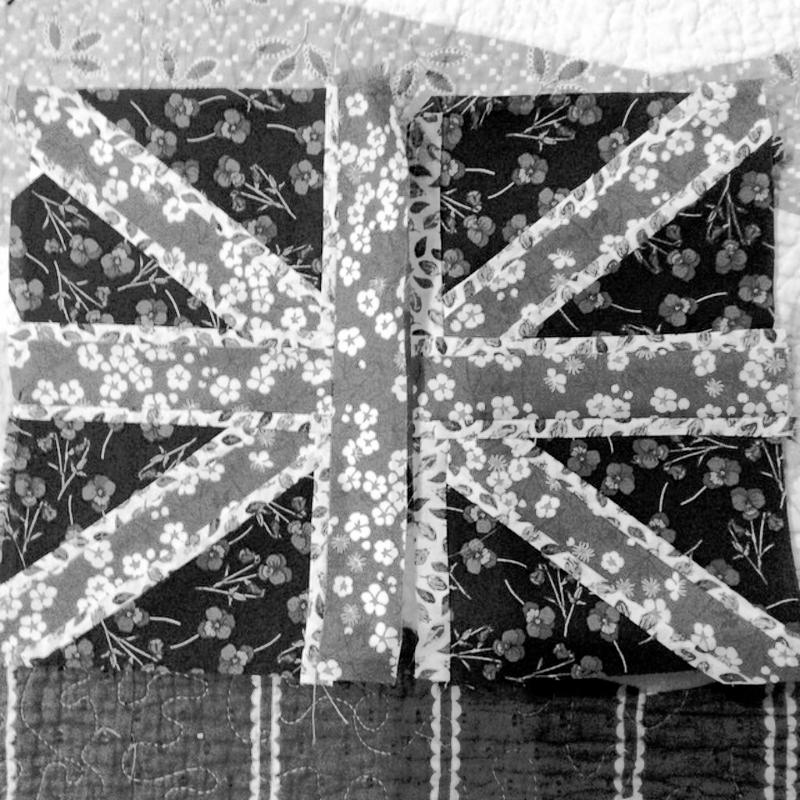pillow: (58, 5, 800, 761)
